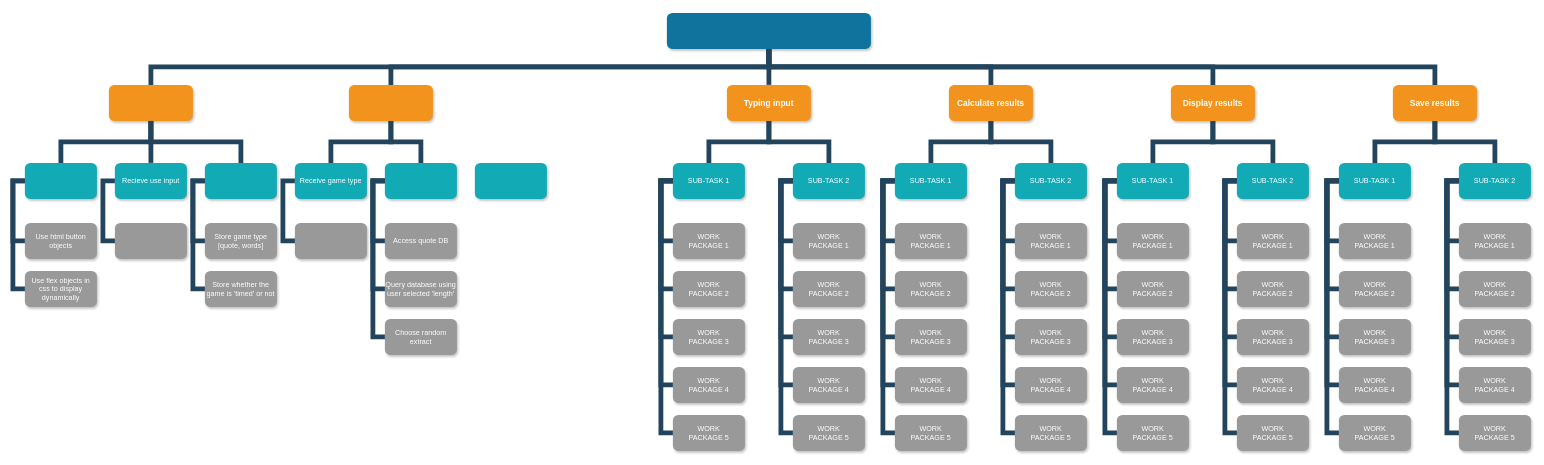
The diagram is 1544 pixels wide and 465 high, and some of its shapes have lost their labels. Here are the shapes that lost their labels. From the top down, the centre of each, then its label:
(x=769, y=31): Game
(x=151, y=103): Configure game settings
(x=391, y=103): Create text
(x=61, y=181): Display options
(x=241, y=181): Determine game type
(x=421, y=181): Generate 'quote' text
(x=511, y=181): Generate 'words' text
(x=151, y=241): Store selected text length [short, mid, long]
(x=331, y=241): Raise flag to indicate game type for game creation
